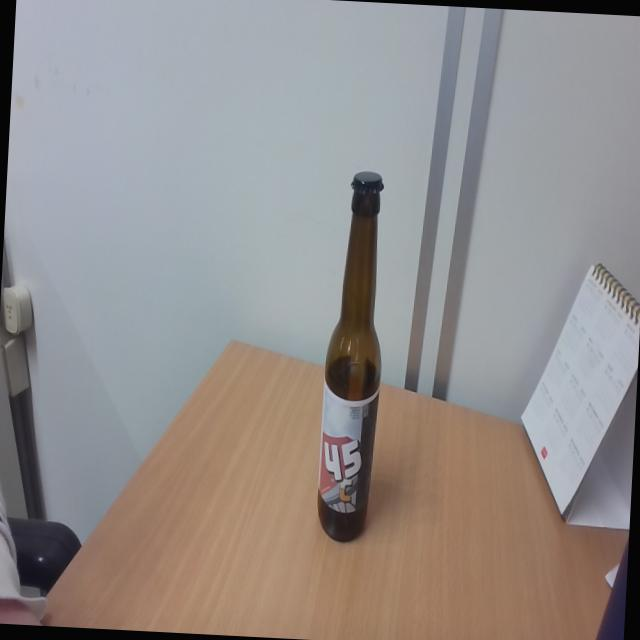Bottle: (315, 168, 391, 544)
Cap: (349, 170, 387, 198)
Label: (316, 384, 378, 514)
